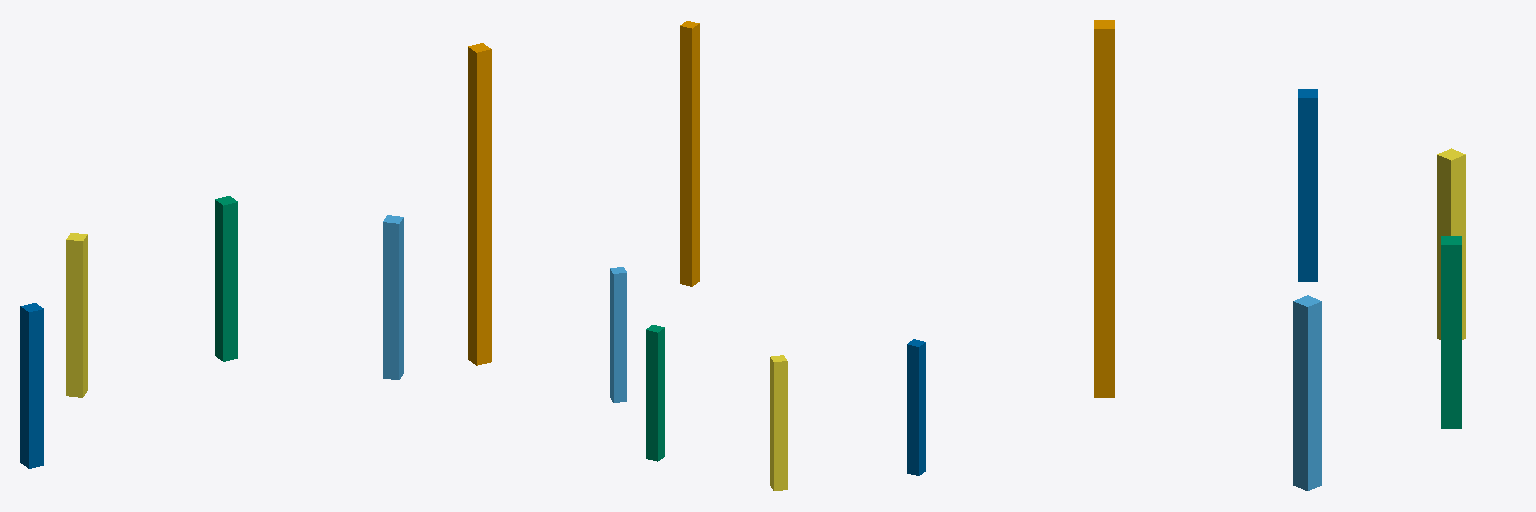
The robot description file, URDF, robot "chained_fixed_joint_links":
<?xml version="1.0" encoding="utf-8"?>
<robot name="chained_fixed_joint_links">
  <gazebo>
    <joint name="sdf_ball_joint" type="ball">
      <parent>link1</parent>
      <child>link4</child>
    </joint>
  </gazebo>

  <!-- Base Link -->
  <link name="base_link">
    <collision>
      <origin rpy="0 0 0" xyz="0 0 0.0"/>
      <geometry>
        <box size="1.0 1.0 1"/>
      </geometry>
    </collision>
    <visual>
      <origin rpy="0 0 0" xyz="0 0 1.0"/>
      <geometry>
        <box size="0.1 0.1 2"/>
      </geometry>
    </visual>
    <inertial>
      <origin xyz="0 0 1" rpy="0 0 0"/>
      <mass value="1"/>
      <inertia
        ixx="1.0" ixy="0.0" ixz="0.0"
        iyy="1.0" iyz="0.0"
        izz="1.0"/>
    </inertial>
  </link>

  <!-- Link 1 -->
  <link name="link1">
    <collision>
      <origin rpy="0 0 0" xyz="0 0 0.0"/>
      <geometry>
        <box size="1.0 1.0 1"/>
      </geometry>
    </collision>
    <visual>
      <origin rpy="0 0 0" xyz="0 0 0.0"/>
      <geometry>
        <box size="0.1 0.1 1"/>
      </geometry>
    </visual>
    <inertial>
      <origin xyz="0 0 1" rpy="0 0 0"/>
      <mass value="1"/>
      <inertia
        ixx="1.0" ixy="0.0" ixz="0.0"
        iyy="1.0" iyz="0.0"
        izz="1.0"/>
    </inertial>
  </link>

  <!-- Link 2 -->
  <link name="link2">
    <collision>
      <origin rpy="0 0 0" xyz="0 0 0.0"/>
      <geometry>
        <box size="1.0 1.0 1"/>
      </geometry>
    </collision>
    <visual>
      <origin rpy="0 0 0" xyz="0 0 0.0"/>
      <geometry>
        <box size="0.1 0.1 1"/>
      </geometry>
    </visual>
    <inertial>
      <origin xyz="0 0 1" rpy="0 0 0"/>
      <mass value="1"/>
      <inertia
        ixx="1.0" ixy="0.0" ixz="0.0"
        iyy="1.0" iyz="0.0"
        izz="1.0"/>
    </inertial>
  </link>

  <!-- Link 3 -->
  <link name="link3">
    <collision>
      <origin rpy="0 0 0" xyz="0 0 0.0"/>
      <geometry>
        <box size="1.0 1.0 1"/>
      </geometry>
    </collision>
    <visual>
      <origin rpy="0 0 0" xyz="0 0 0.0"/>
      <geometry>
        <box size="0.1 0.1 1"/>
      </geometry>
    </visual>
    <inertial>
      <origin xyz="0 0 1" rpy="0 0 0"/>
      <mass value="1"/>
      <inertia
        ixx="1.0" ixy="0.0" ixz="0.0"
        iyy="1.0" iyz="0.0"
        izz="1.0"/>
    </inertial>
  </link>

  <!-- Link 4 -->
  <link name="link4">
    <collision>
      <origin rpy="0 0 0" xyz="0 0 0.0"/>
      <geometry>
        <box size="1.0 1.0 1"/>
      </geometry>
    </collision>
    <visual>
      <origin rpy="0 0 0" xyz="0 0 0.0"/>
      <geometry>
        <box size="0.1 0.1 1"/>
      </geometry>
    </visual>
    <inertial>
      <origin xyz="0 0 1" rpy="0 0 0"/>
      <mass value="1"/>
      <inertia
        ixx="1.0" ixy="0.0" ixz="0.0"
        iyy="1.0" iyz="0.0"
        izz="1.0"/>
    </inertial>
  </link>

  <!-- Joint 1 -->
  <joint name="joint1" type="fixed">
    <parent link="base_link"/>
    <child link="link1"/>
    <origin rpy="0 0 0.7854" xyz="0 1.0 0.0"/>
    <dynamics damping="0.7"/>
  </joint>

  <!-- Joint 2 -->
  <joint name="joint2" type="continuous">
    <parent link="link1"/>
    <child link="link2"/>
    <origin rpy="0 0 0.7854" xyz="0 1.0 0.0"/>
    <axis xyz="0 1 0"/>
    <dynamics damping="0.7"/>
  </joint>

  <!-- Joint 3 -->
  <joint name="joint3" type="continuous">
    <parent link="link2"/>
    <child link="link3"/>
    <origin rpy="0 0 0.7854" xyz="0 1.0 0.0"/>
    <axis xyz="0 1 0"/>
    <dynamics damping="0.7"/>
  </joint>

  <!-- Joint 4 -->
  <joint name="joint4" type="fixed">
    <parent link="link3"/>
    <child link="link4"/>
    <origin rpy="0 0 0.7854" xyz="0 1.0 0.0"/>
    <dynamics damping="0.7"/>
  </joint>

</robot>

--- Facts derived from the render (not from the file) ---
The picture shows the robot from 3 angles, left to right: view 1: azimuth 30°, elevation 25°; view 2: azimuth 150°, elevation 25°; view 3: azimuth 270°, elevation 25°; orthographic projection.
Model chained_fixed_joint_links with 5 links and 4 joints (2 continuous, 2 fixed), rooted at base_link, posed every joint at zero.
Visible links, largest first — view 1: base_link, link4, link2, link3, link1; view 2: base_link, link4, link2, link3, link1; view 3: base_link, link1, link2, link4, link3.
Boxes of the visible links, box(x1,y1,x2,y2) form: base_link: box(468, 43, 491, 365); link4: box(20, 303, 43, 468); link2: box(215, 196, 237, 361); link3: box(66, 233, 87, 397); link1: box(383, 215, 403, 379); base_link: box(680, 21, 699, 286); link4: box(907, 339, 925, 475); link2: box(646, 325, 664, 461); link3: box(770, 355, 787, 490); link1: box(610, 267, 626, 402); base_link: box(1094, 20, 1114, 397); link1: box(1293, 295, 1321, 490); link2: box(1441, 236, 1461, 428); link4: box(1298, 89, 1317, 281); link3: box(1437, 148, 1465, 339).
Bounding box of the posed robot: 2.53 × 1.83 × 2.5 m (x, y, z).
Geometry: primitives only (box / cylinder / sphere), no mesh files.
